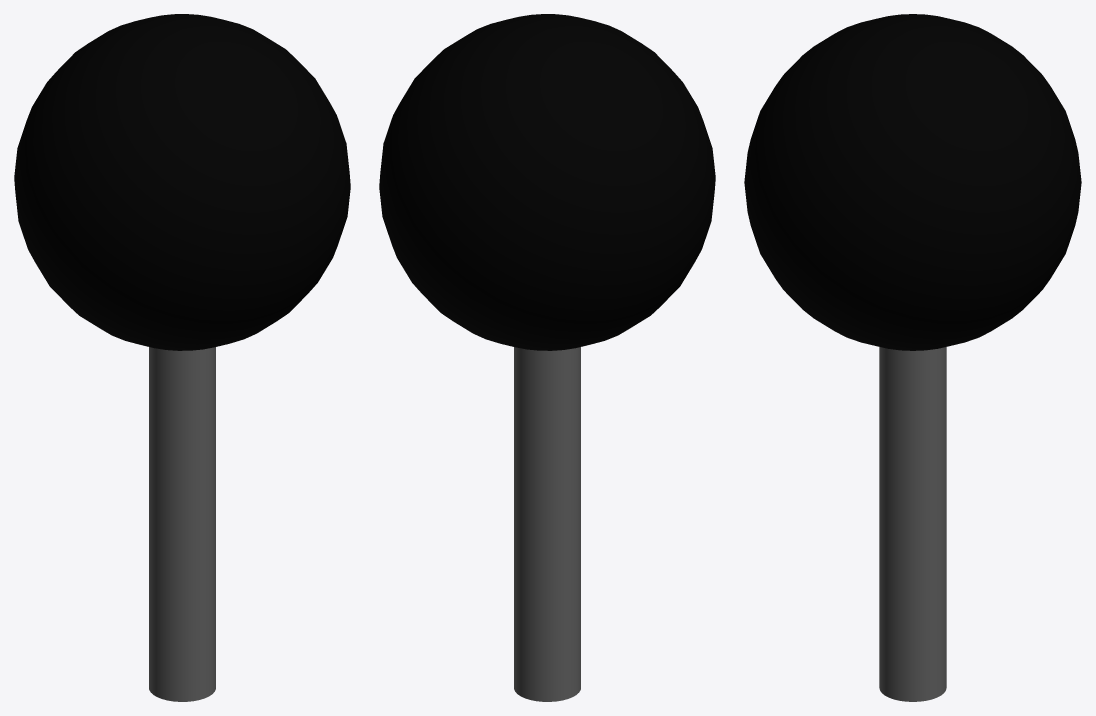
Rendered from stick.obj.
The picture shows the model from 3 angles, left to right: view 1: azimuth 30°, elevation 25°; view 2: azimuth 150°, elevation 25°; view 3: azimuth 270°, elevation 25°; orthographic projection.
Parts seen in each view (by area): view 1: Stick.001; view 2: Stick.001; view 3: Stick.001.
Part boxes in pixels (bbox=[...]): Stick.001: bbox=[14, 14, 350, 701]; Stick.001: bbox=[379, 14, 715, 701]; Stick.001: bbox=[744, 14, 1081, 701].
Bounding box in the file's own units: 0.0667 × 0.1437 × 0.0667.
Materials: 1 (1 with a texture image).
